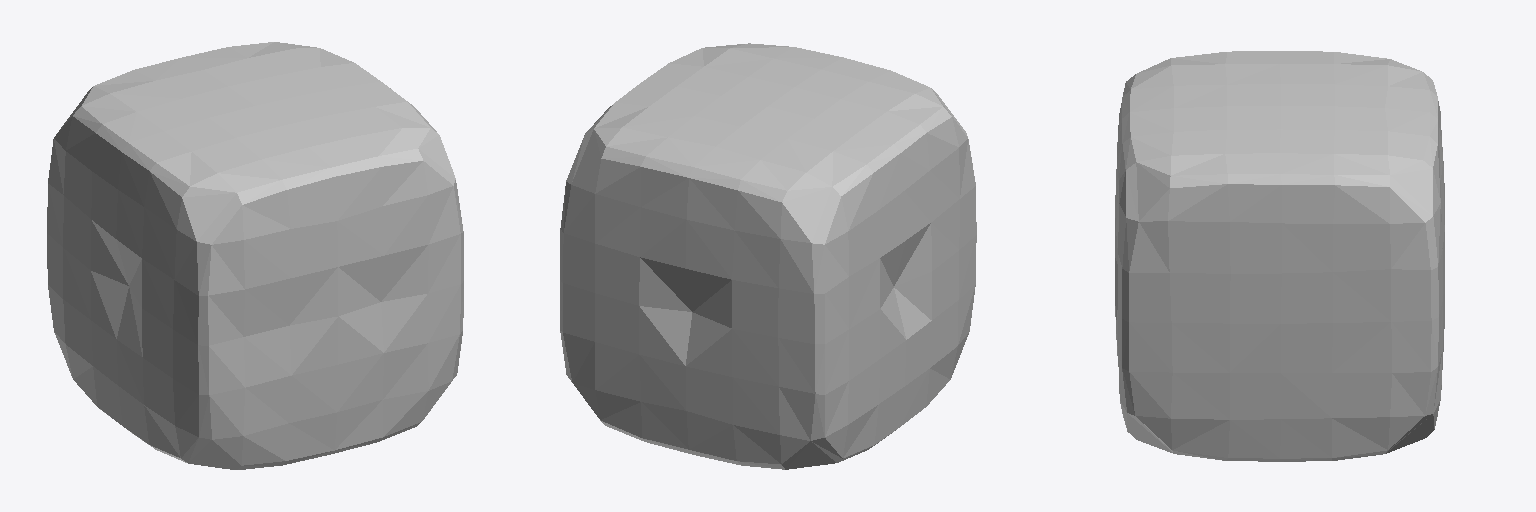
The model's file is Dice_low.obj.
3 views of the same model, side by side, from view 1: azimuth 30°, elevation 25°; view 2: azimuth 150°, elevation 25°; view 3: azimuth 270°, elevation 25° (orthographic).
Parts seen in each view (by area): view 1: Group31358, Group4576; view 2: Group31358, Group4576; view 3: Group31358, Group4576.
Boxes of the visible parts, box(x1,y1,x2,y2) form: Group31358: box(47, 42, 460, 465); Group4576: box(56, 87, 463, 469); Group31358: box(563, 43, 976, 464); Group4576: box(560, 88, 967, 469); Group31358: box(1115, 51, 1444, 458); Group4576: box(1122, 72, 1438, 461).
Size of the model in its own units: 1.3 by 1.34 by 1.34.